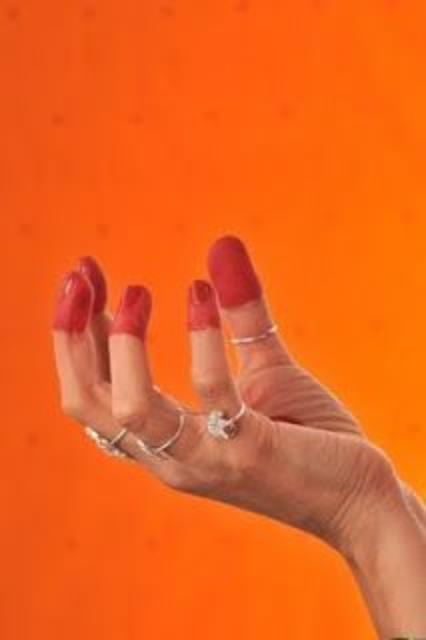padamkosh: (28, 228, 426, 640)
